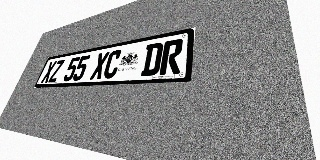5: (72, 55, 91, 81), (62, 57, 81, 82)
C: (102, 49, 123, 79)
D: (140, 42, 164, 76)
R: (159, 38, 184, 75)
X: (89, 51, 110, 80), (40, 61, 57, 83)
Z: (48, 59, 65, 83)
